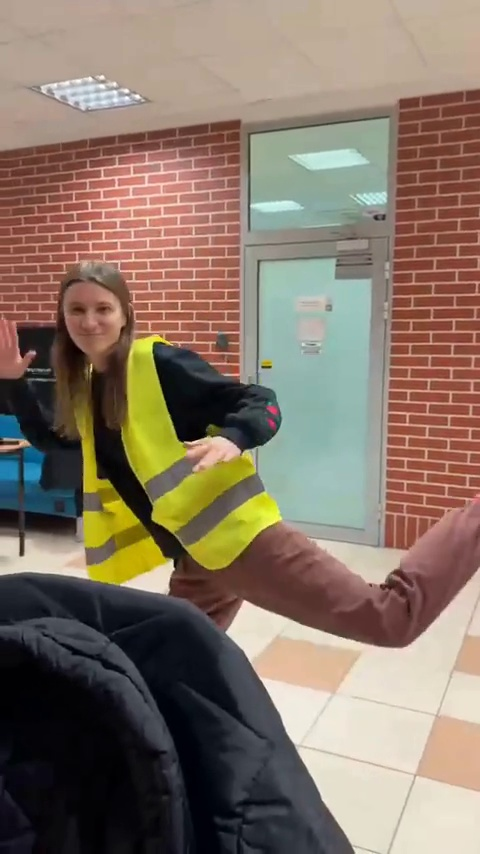vest: (50, 258, 401, 662)
